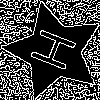H: (29, 26, 87, 77)
